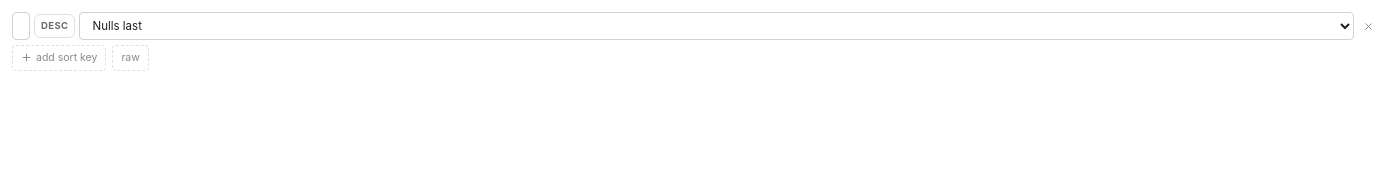
Test case: SortBuilder › shows external changes instead of retaining a stale local column draft
Clear the field with placeholder "column" at (21, 26), box [12,12,30,40]
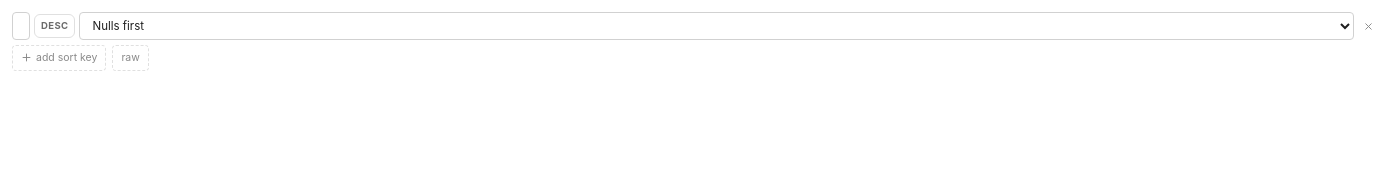
expect the dropdown named "Null placement for sort key 1" shows "Nulls first": met, box [80,12,1354,40]
